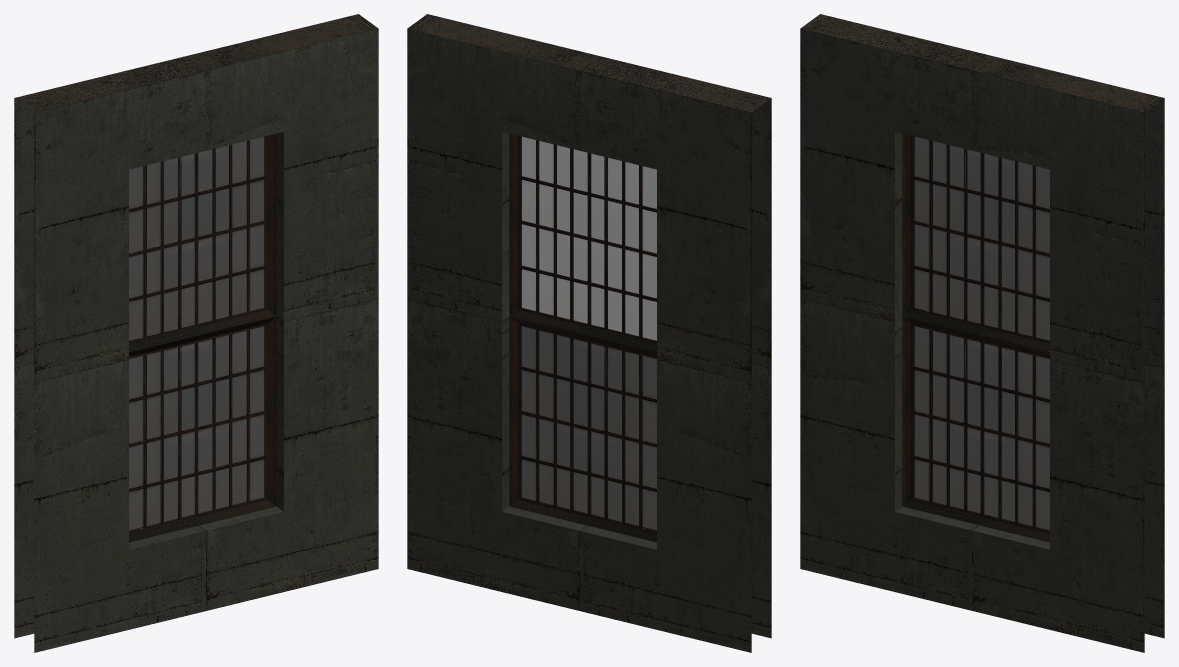
Rendered from wall_rg_1_m_2.glb.
3 renders of one model, left to right at view 1: azimuth 30°, elevation 25°; view 2: azimuth 150°, elevation 25°; view 3: azimuth 330°, elevation 25°, orthographic.
Parts seen in each view (by area): view 1: wall_rg_1_m_2; view 2: wall_rg_1_m_2; view 3: wall_rg_1_m_2.
Boxes of the visible parts, x1,y1,x2,y2 form: wall_rg_1_m_2: [14, 14, 378, 652]; wall_rg_1_m_2: [407, 14, 771, 652]; wall_rg_1_m_2: [800, 14, 1164, 652].
Bounding box in the file's own units: 4 × 6 × 0.4.
Materials: 4 (4 with a texture image).
